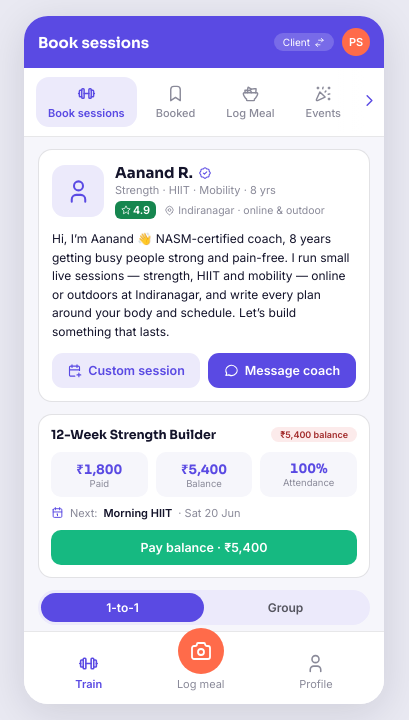
it: App end-to-end Sessions→Booked › reaches Log Meal from the bottom nav FAB
The width and height of the screenshot is (409, 720).
What coordinates should you click on to do the following:
click the button "Log meal"
I would click on:
 (201, 660)
Its box is [171,627,231,692].
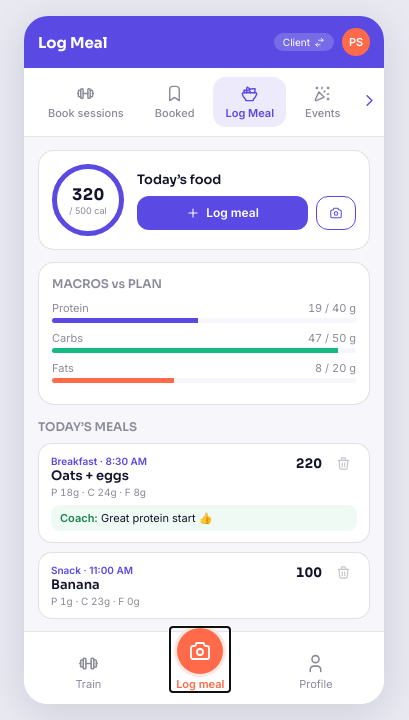
Now the text "/ 500 cal" is shown, box [69,205,107,216]
